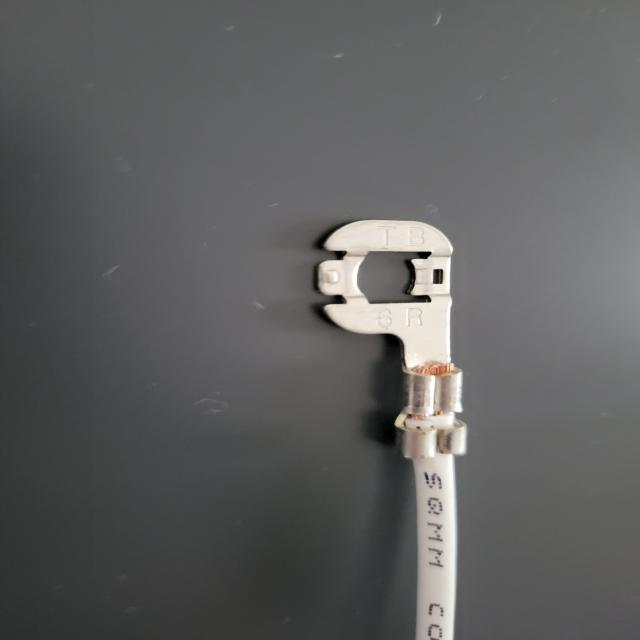good: (9, 3, 628, 630)
